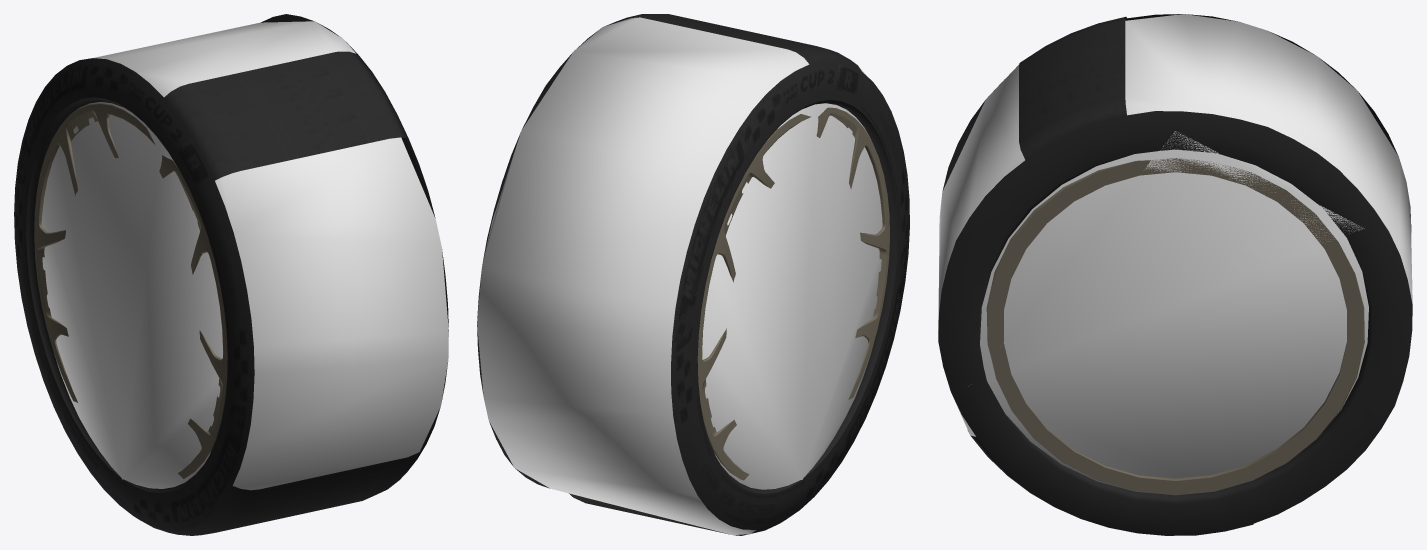
The picture shows the model from 3 angles, left to right: view 1: azimuth 30°, elevation 25°; view 2: azimuth 150°, elevation 25°; view 3: azimuth 270°, elevation 25°; orthographic projection.
Parts seen in each view (by area): view 1: wheel_stampede_front_01_col, wheel_stampede_front_01; view 2: wheel_stampede_front_01_col, wheel_stampede_front_01; view 3: wheel_stampede_front_01_col, wheel_stampede_front_01.
Part boxes in pixels (x1,y1,x2,y2): wheel_stampede_front_01_col: (41, 21, 448, 490); wheel_stampede_front_01: (14, 14, 448, 535); wheel_stampede_front_01_col: (477, 17, 882, 535); wheel_stampede_front_01: (477, 14, 909, 535); wheel_stampede_front_01_col: (938, 14, 1412, 492); wheel_stampede_front_01: (938, 14, 1412, 535).
Bounding box in the file's own units: 0.3527 × 0.7019 × 0.6772.
Materials: 2 (2 with a texture image).
